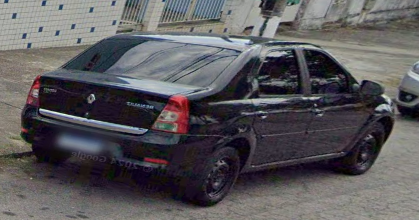car: (19, 34, 396, 207)
